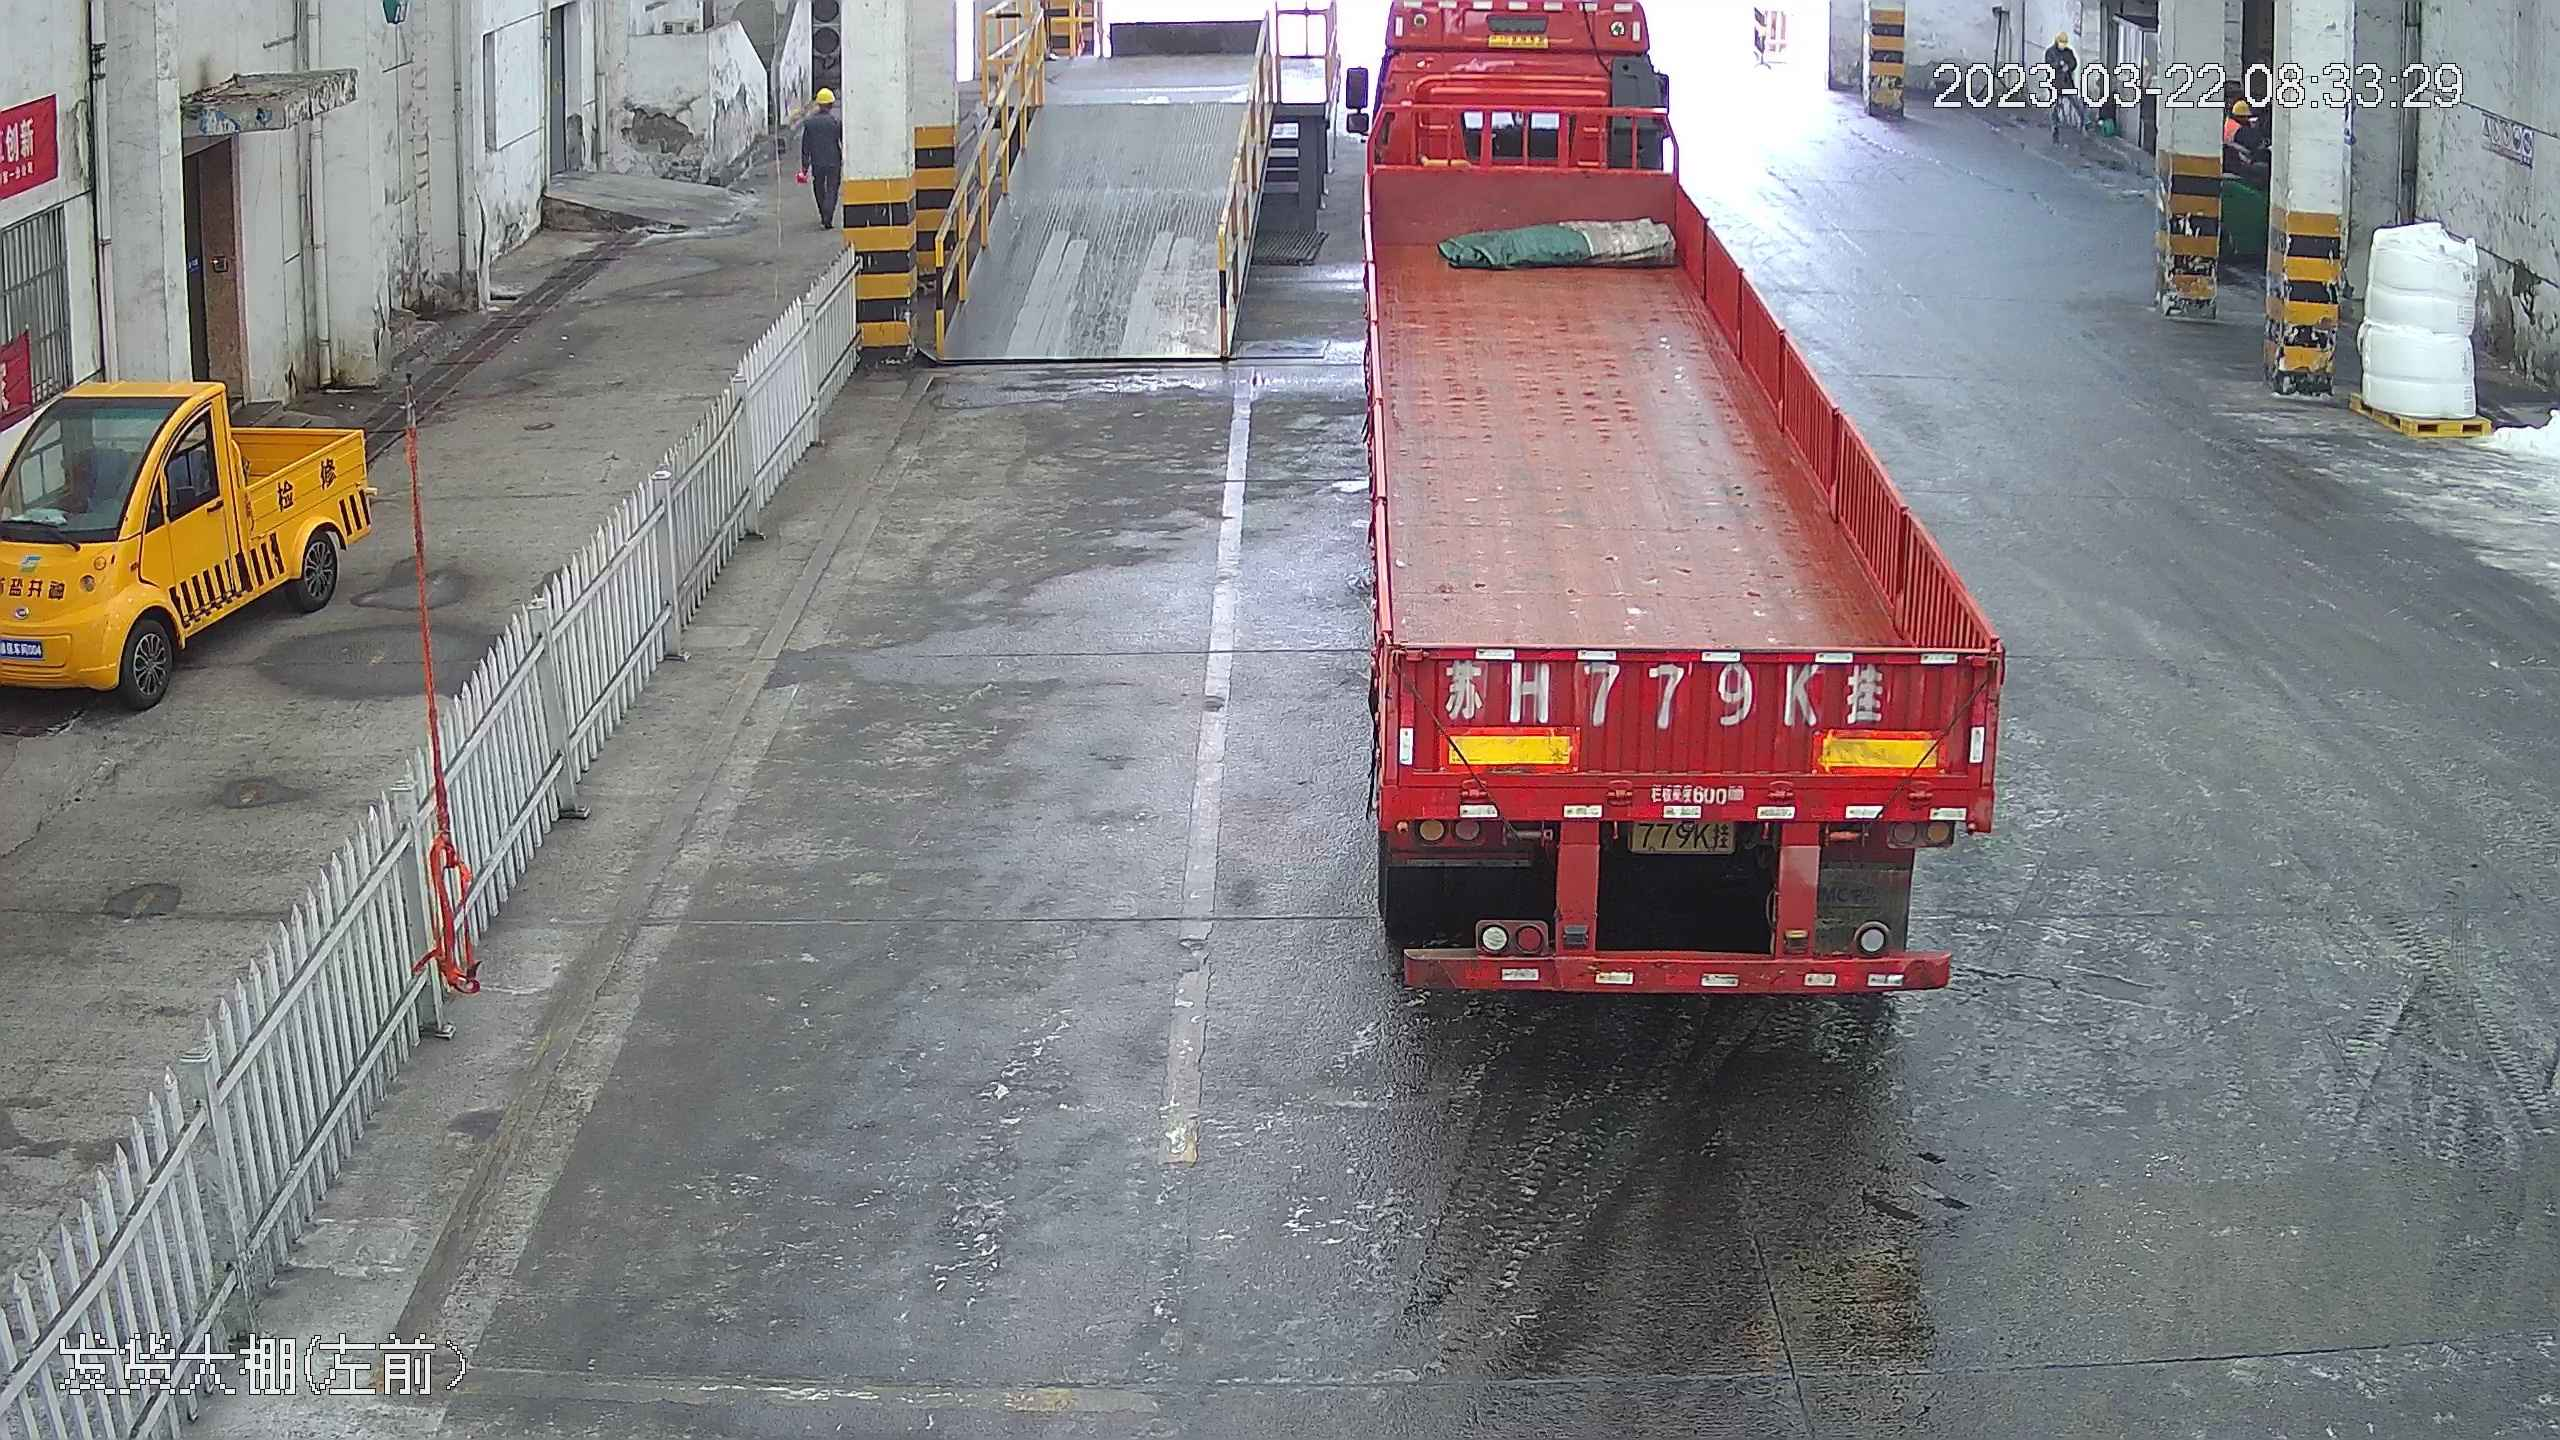head: (805, 86, 842, 129)
helmet: (814, 87, 838, 105)
people: (795, 83, 846, 228)
truck: (1340, 1, 2037, 1005)
